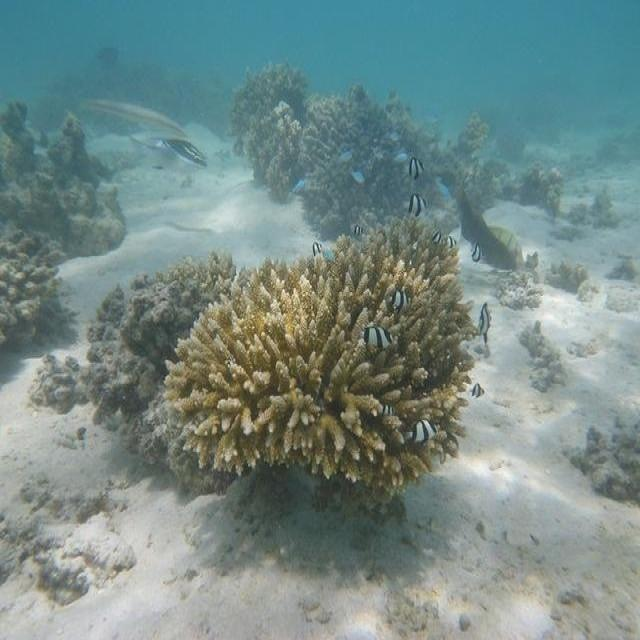fish: (457, 187, 523, 271), (90, 99, 188, 137), (135, 137, 209, 170), (405, 420, 436, 445), (364, 326, 393, 347), (476, 303, 491, 340), (407, 194, 430, 218)
reefs: (164, 224, 476, 513)
